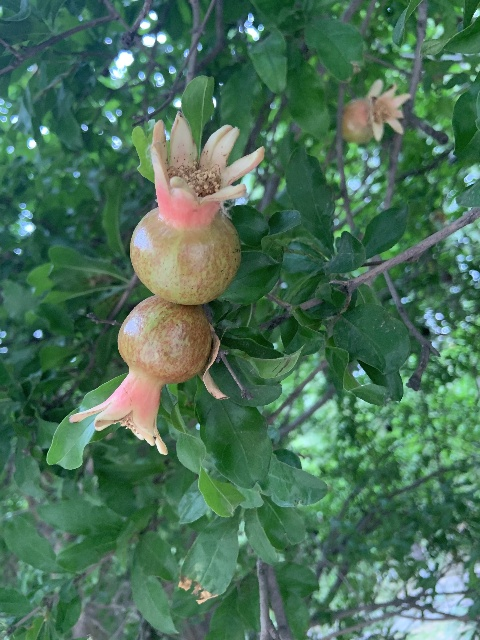early-fruit: (130, 110, 266, 304), (69, 295, 215, 453), (341, 80, 409, 143)
